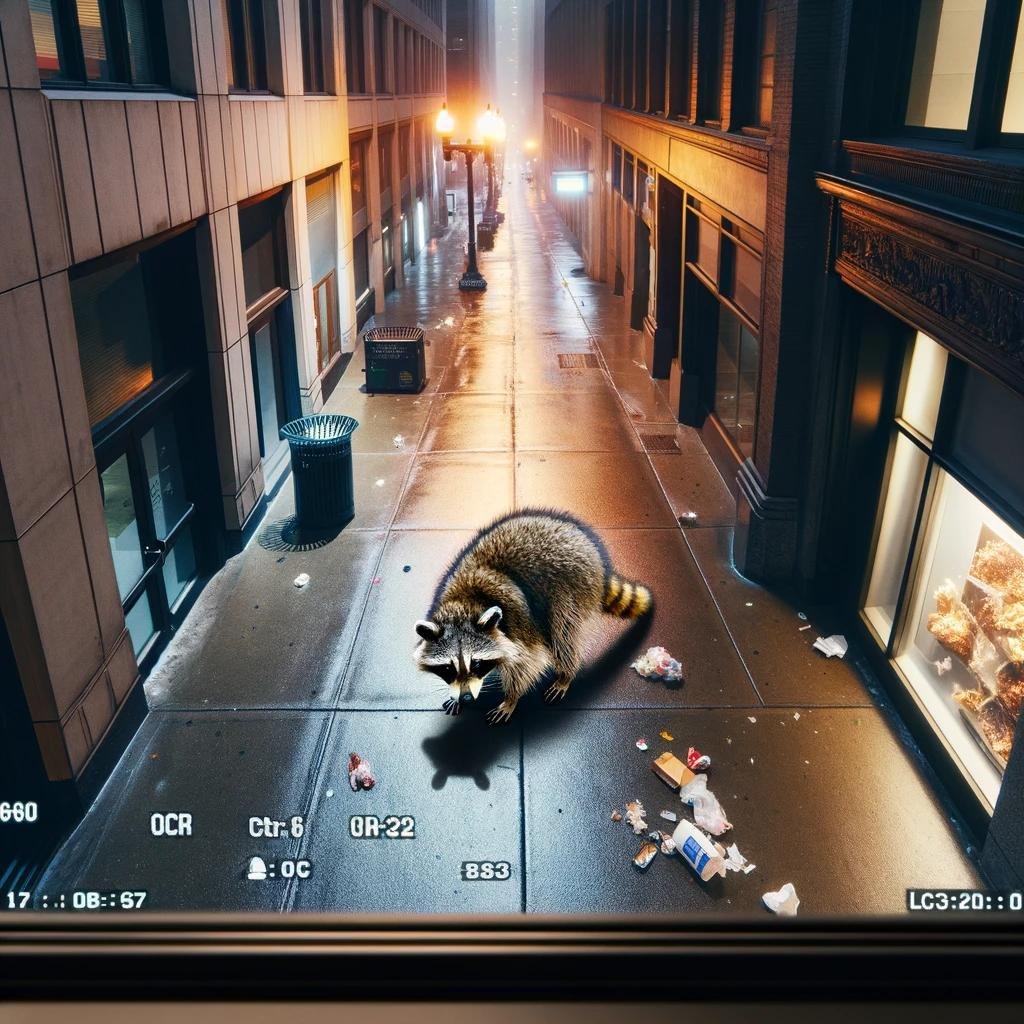raccoon: (400, 493, 667, 732)
